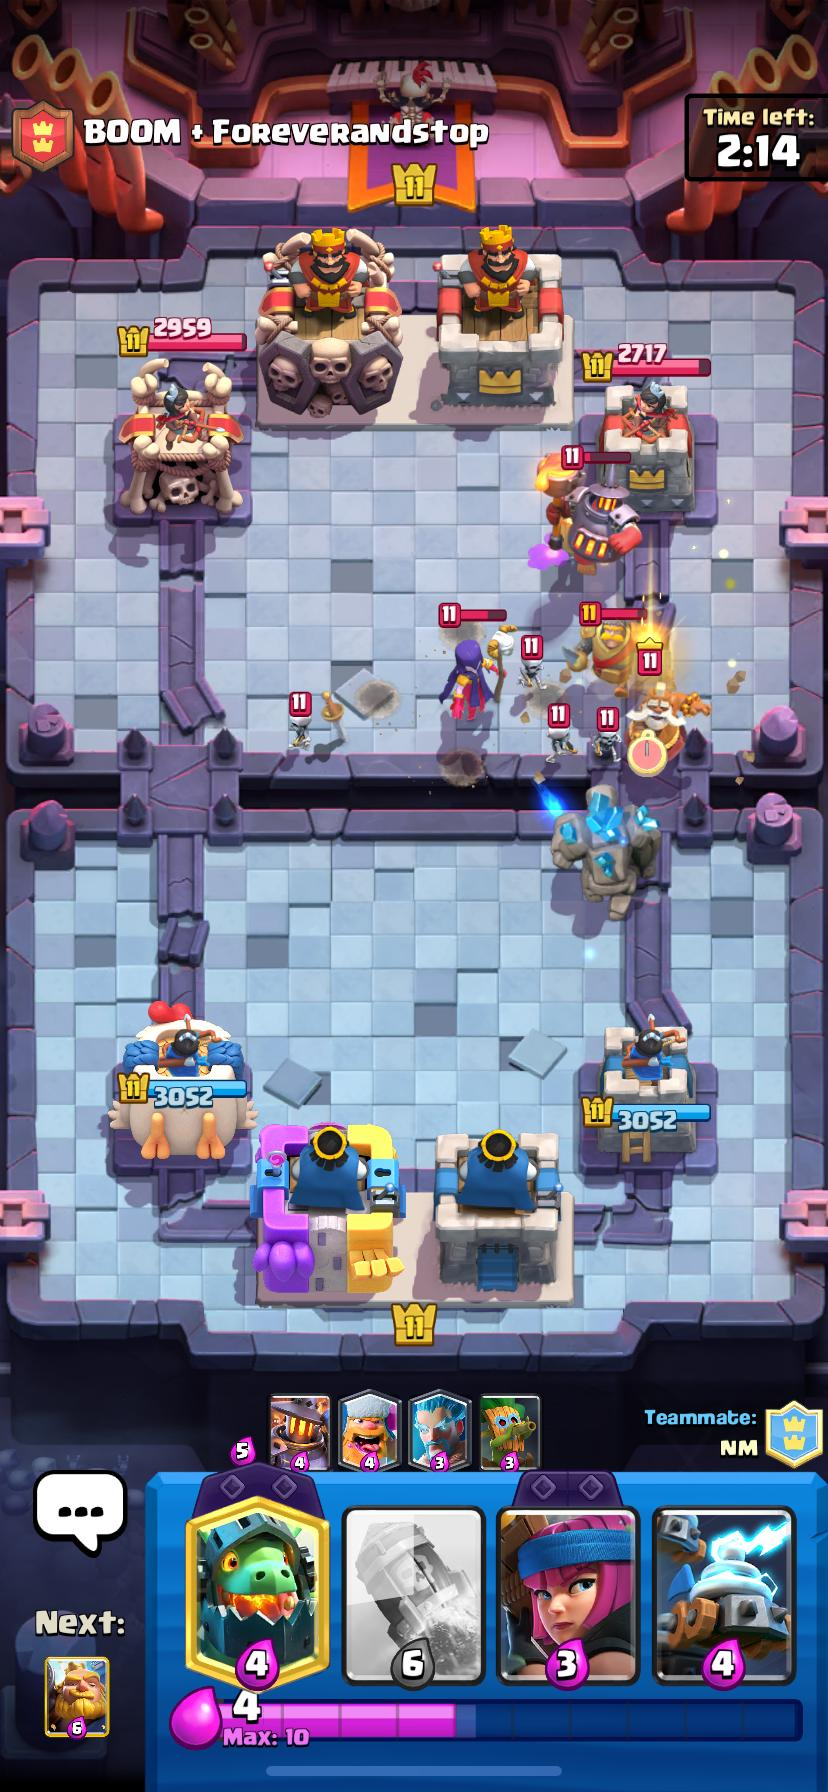EFurnace: (536, 449, 640, 571)
EKingTower: (255, 227, 401, 418), (432, 226, 571, 409)
EKnight: (580, 602, 638, 697)
ELarry: (546, 696, 578, 763), (519, 630, 544, 698), (594, 703, 619, 770), (287, 689, 312, 753)
EMonk: (628, 681, 688, 773)
EWitch: (439, 639, 493, 721)
EnemyPrincessTower: (118, 360, 242, 515), (599, 379, 694, 517)
OGolem: (551, 786, 661, 918)
OwnKingTower: (253, 1123, 403, 1301), (433, 1127, 573, 1304)
OwnPrincessTower: (111, 1002, 254, 1158), (580, 1016, 711, 1167)
